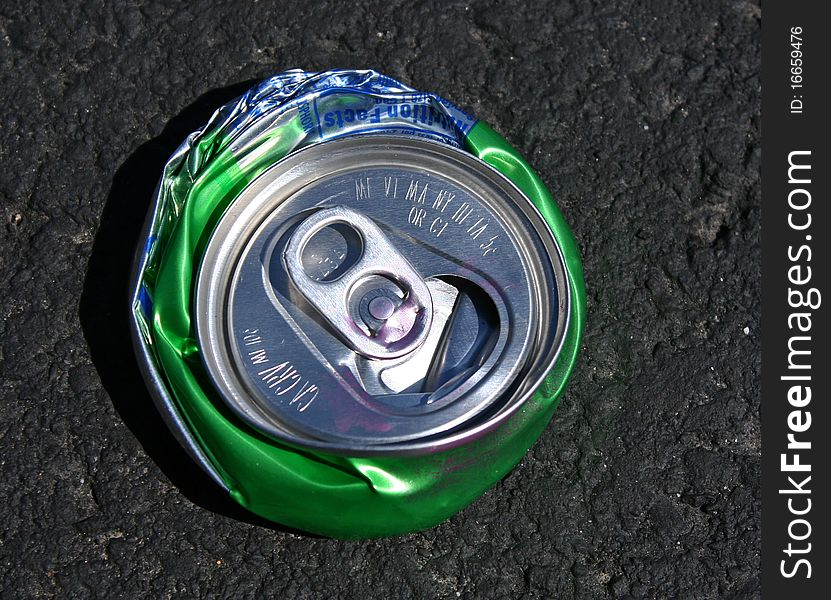can: (127, 66, 587, 542)
